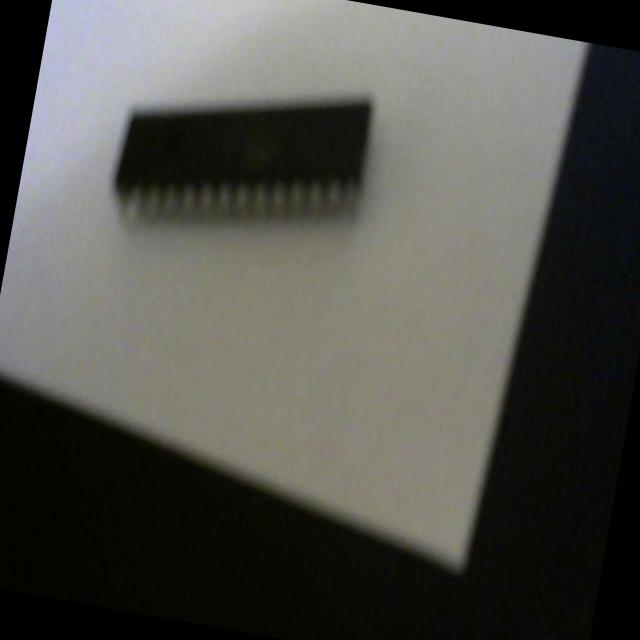atmega: (102, 49, 382, 262)
